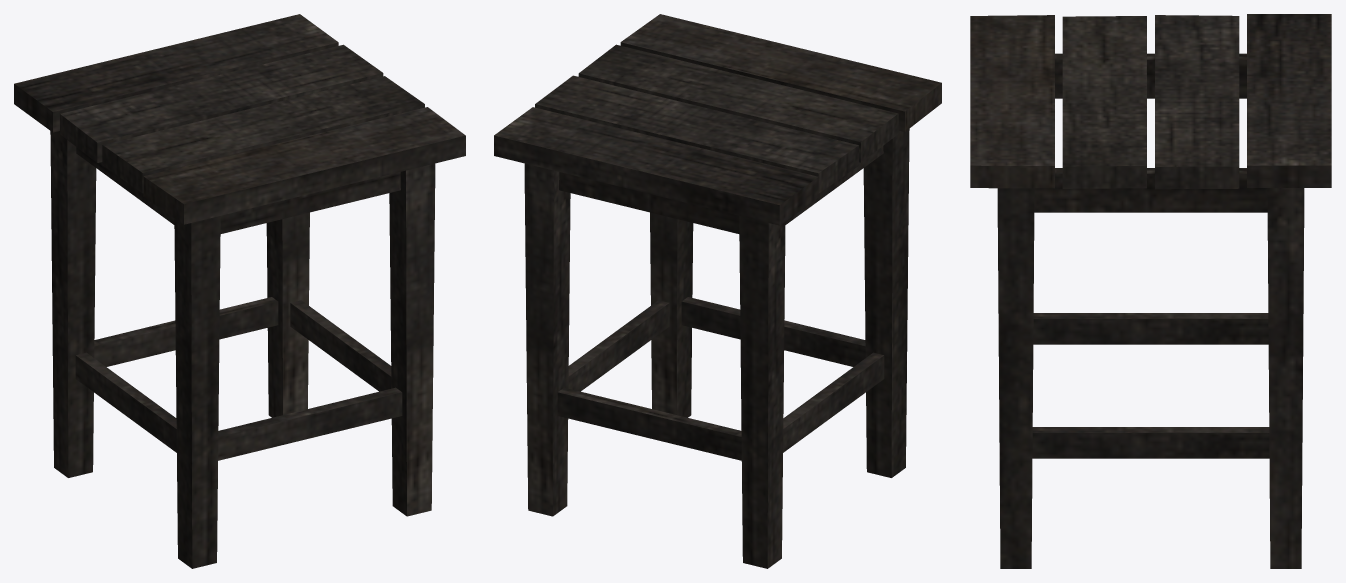
Rendered from chair_mp_1.obj.
3 views of the same model, side by side, from view 1: azimuth 30°, elevation 25°; view 2: azimuth 150°, elevation 25°; view 3: azimuth 270°, elevation 25° (orthographic). The views are drawn at different scales.
Parts seen in each view (by area): view 1: chair_mp_1; view 2: chair_mp_1; view 3: chair_mp_1.
Boxes of the visible parts, bbox=[...] form: chair_mp_1: bbox=[14, 14, 465, 568]; chair_mp_1: bbox=[494, 14, 941, 568]; chair_mp_1: bbox=[970, 14, 1331, 568].
Size of the model in its own units: 0.4707 by 0.594 by 0.47.
